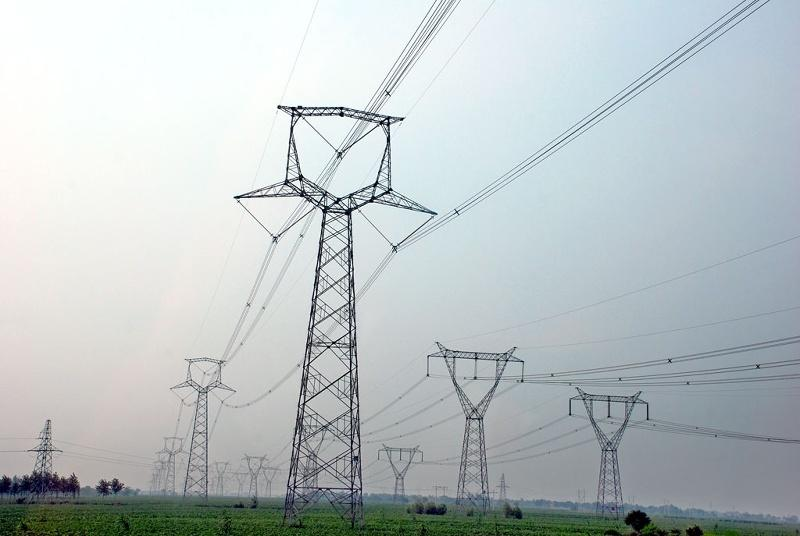power_tower: (248, 86, 411, 514), (414, 329, 533, 512), (553, 373, 669, 512), (171, 346, 223, 495), (375, 435, 427, 505), (27, 416, 58, 498)
